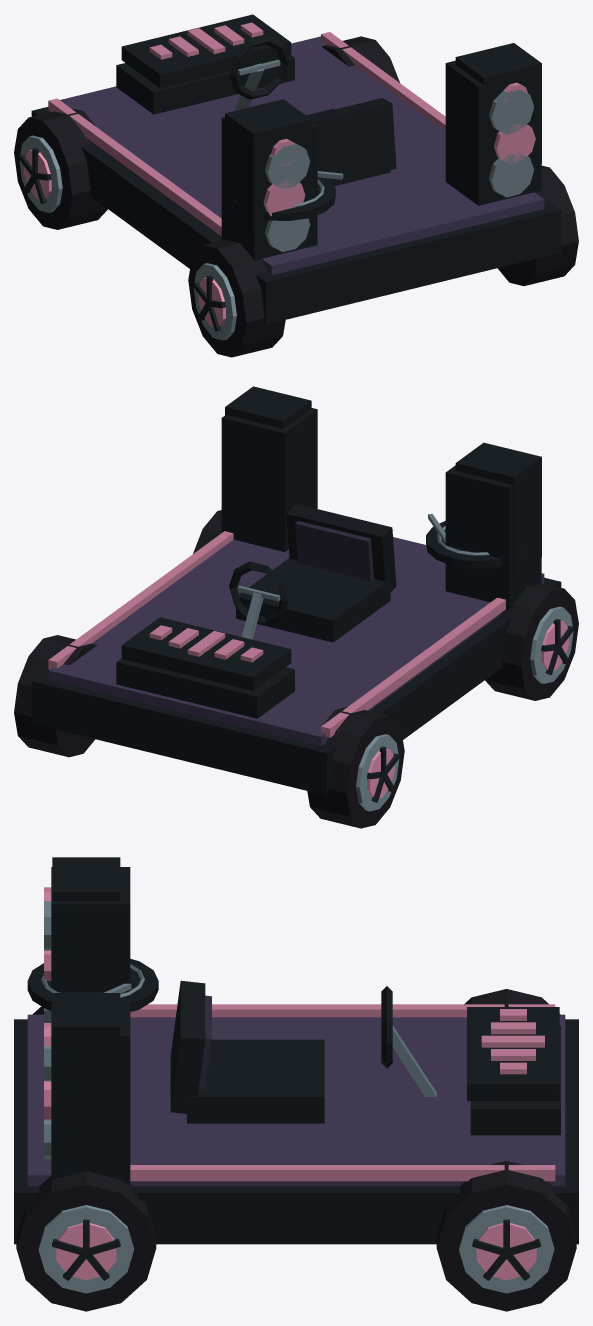
File: kart.glb
The picture shows the model from 3 angles, top to bottom: view 1: azimuth 30°, elevation 25°; view 2: azimuth 150°, elevation 25°; view 3: azimuth 270°, elevation 25°; orthographic projection. The views are drawn at different scales.
Parts seen in each view (by area): view 1: identity-stage-stage-platform-and-pa-towers, identity-stage-motif-speakers, identity-stage-driver-cockpit, wheel-rear-left, wheel-front-left, identity-stage-motif-equalizer, wheel-rear-right, identity-stage-motif-vinyl, wheel-front-right; view 2: identity-stage-stage-platform-and-pa-towers, identity-stage-driver-cockpit, wheel-front-left, wheel-rear-left, identity-stage-motif-equalizer, identity-stage-motif-speakers, wheel-front-right, identity-stage-motif-vinyl; view 3: identity-stage-stage-platform-and-pa-towers, identity-stage-driver-cockpit, wheel-front-right, wheel-rear-right, identity-stage-motif-speakers, identity-stage-motif-equalizer, identity-stage-motif-vinyl, wheel-front-left.
Boxes of the visible parts, bbox=[...] form: identity-stage-stage-platform-and-pa-towers: bbox=[31, 32, 561, 324]; identity-stage-motif-speakers: bbox=[225, 43, 541, 233]; identity-stage-driver-cockpit: bbox=[229, 35, 396, 185]; wheel-rear-left: bbox=[188, 239, 285, 357]; wheel-front-left: bbox=[14, 108, 107, 229]; identity-stage-motif-equalizer: bbox=[121, 14, 291, 87]; wheel-rear-right: bbox=[497, 165, 578, 286]; identity-stage-motif-vinyl: bbox=[231, 171, 343, 220]; wheel-front-right: bbox=[321, 36, 399, 82]; identity-stage-stage-platform-and-pa-towers: bbox=[31, 408, 561, 795]; identity-stage-driver-cockpit: bbox=[229, 504, 396, 642]; wheel-front-left: bbox=[307, 706, 404, 828]; wheel-rear-left: bbox=[485, 583, 578, 700]; identity-stage-motif-equalizer: bbox=[121, 617, 291, 690]; identity-stage-motif-speakers: bbox=[225, 386, 541, 577]; wheel-front-right: bbox=[14, 635, 96, 757]; identity-stage-motif-vinyl: bbox=[426, 513, 529, 568]; identity-stage-stage-platform-and-pa-towers: bbox=[14, 867, 578, 1244]; identity-stage-driver-cockpit: bbox=[170, 980, 436, 1123]; wheel-front-right: bbox=[436, 1160, 576, 1311]; wheel-rear-right: bbox=[16, 1171, 156, 1311]; identity-stage-motif-speakers: bbox=[44, 857, 120, 1148]; identity-stage-motif-equalizer: bbox=[467, 1007, 559, 1100]; identity-stage-motif-vinyl: bbox=[27, 959, 158, 1011]; wheel-front-left: bbox=[464, 989, 560, 1014].
Bounding box in the file's own units: 2.16 × 1.33 × 2.5.
